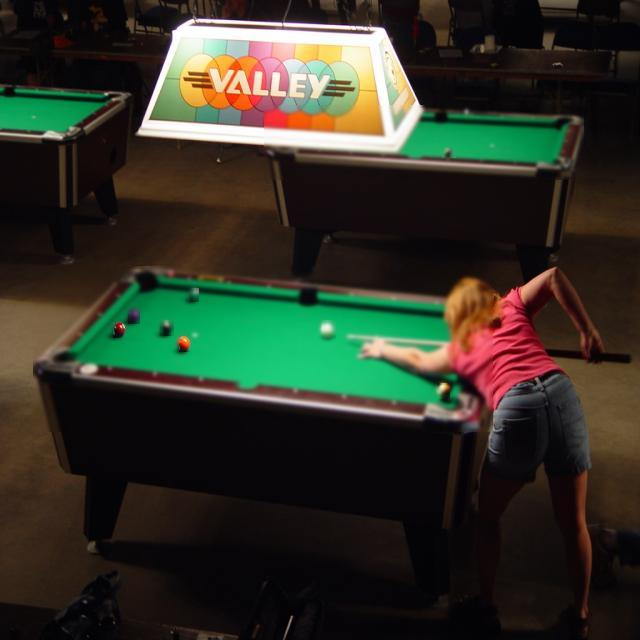Ball: (322, 320, 336, 338), (160, 320, 174, 336), (113, 321, 126, 338), (437, 383, 450, 399), (128, 307, 140, 324), (179, 334, 190, 352), (186, 288, 199, 302), (442, 148, 456, 158)
Billiard table: (34, 266, 494, 432), (264, 105, 584, 180), (0, 82, 134, 148)
